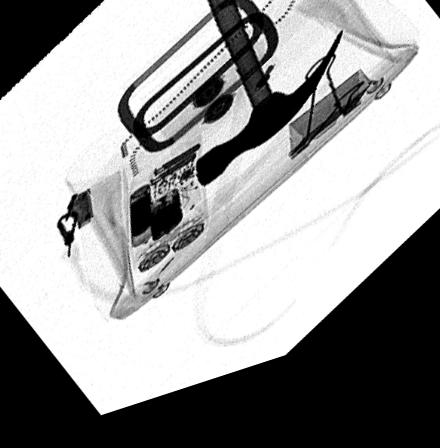Hammer: (195, 0, 343, 200)
